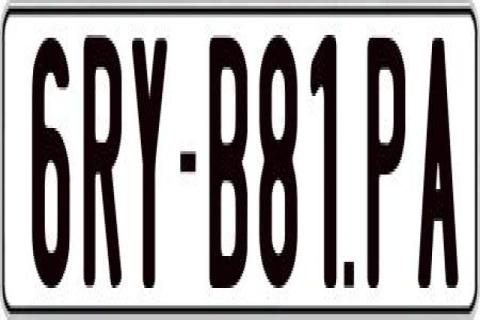0: (30, 38, 70, 291), (260, 35, 298, 297), (308, 29, 338, 285)
A: (417, 29, 460, 294)
B: (206, 35, 250, 288)
P: (366, 38, 407, 297)
R: (80, 35, 122, 303)
Y: (132, 32, 166, 300)
